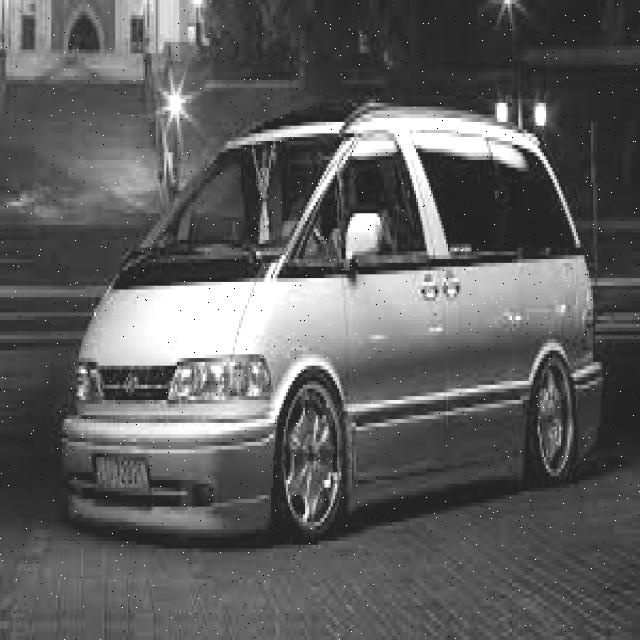Van: (64, 103, 610, 548)
